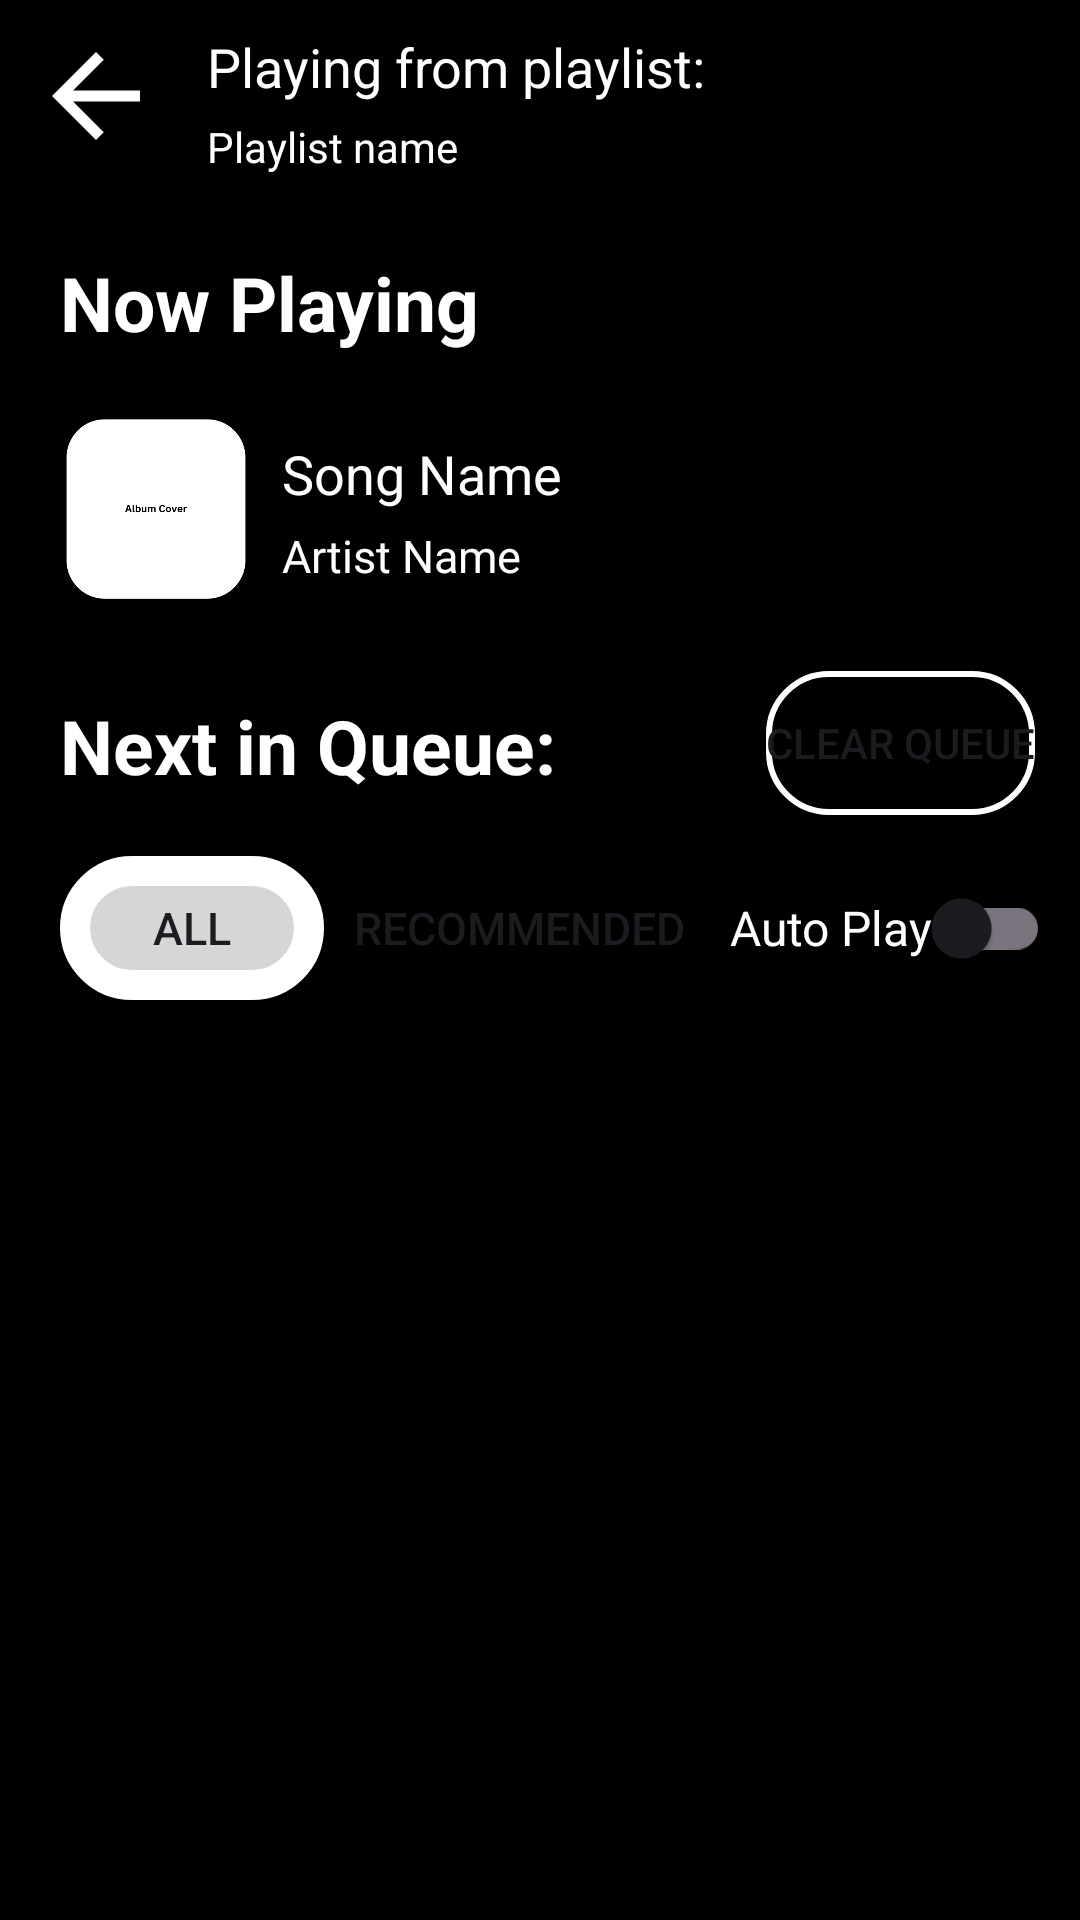

Screen size 1080px x 1920px. Icon name, then its center in pixels as [x,y]:
arrow back: [96,96]
